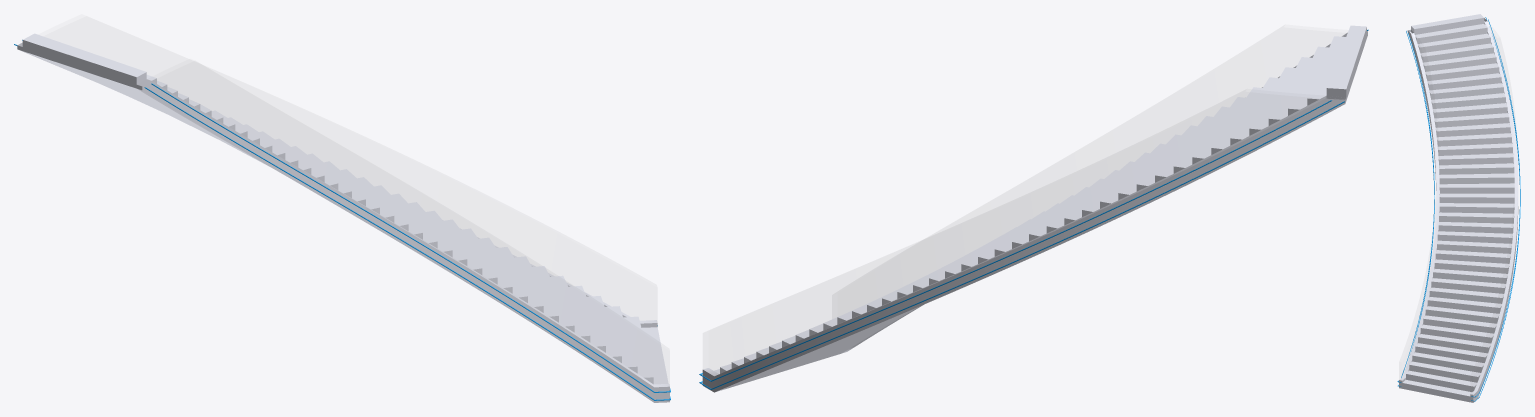
Rendered from 01_plantaprimera_stairrailings.fbx.
The picture shows the model from 3 angles, left to right: view 1: azimuth 30°, elevation 25°; view 2: azimuth 150°, elevation 25°; view 3: azimuth 270°, elevation 25°; orthographic projection. The views are drawn at different scales.
Visible parts, largest first — view 1: SpiralStair003, 01_stair_railingbar, 01_stair_railingglass, 01_stair_railingneon; view 2: SpiralStair003, 01_stair_railingbar, 01_stair_railingglass, 01_stair_railingneon; view 3: SpiralStair003, 01_stair_railingbar, 01_stair_railingneon.
Boxes of the visible parts, bbox=[...] form: SpiralStair003: bbox=[22, 33, 668, 384]; 01_stair_railingbar: bbox=[17, 42, 669, 402]; 01_stair_railingglass: bbox=[157, 61, 586, 294]; 01_stair_railingneon: bbox=[14, 40, 670, 400]; SpiralStair003: bbox=[714, 25, 1366, 390]; 01_stair_railingbar: bbox=[702, 31, 1367, 392]; 01_stair_railingglass: bbox=[832, 89, 1249, 318]; 01_stair_railingneon: bbox=[699, 29, 1368, 389]; SpiralStair003: bbox=[1402, 14, 1514, 402]; 01_stair_railingbar: bbox=[1399, 18, 1518, 402]; 01_stair_railingneon: bbox=[1397, 17, 1520, 401].
Bounding box in the file's own units: 1062 × 712 × 345.
